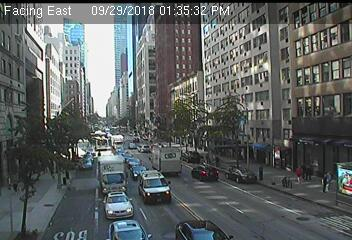car: (97, 156, 127, 195), (175, 220, 232, 240), (138, 170, 170, 204), (149, 147, 182, 176), (107, 221, 152, 240), (103, 192, 133, 219), (226, 166, 257, 185), (191, 166, 220, 181), (130, 166, 148, 180), (181, 151, 200, 163), (110, 135, 124, 150), (126, 158, 144, 169), (116, 149, 129, 158), (80, 159, 91, 169), (137, 144, 150, 152), (83, 153, 92, 163)
